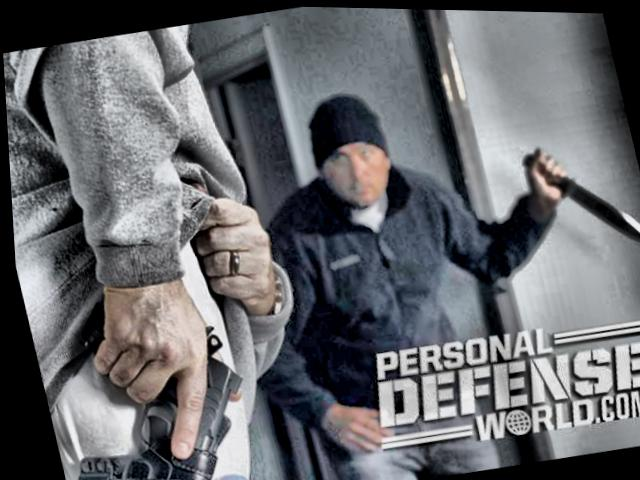pistol: (47, 275, 255, 480)
